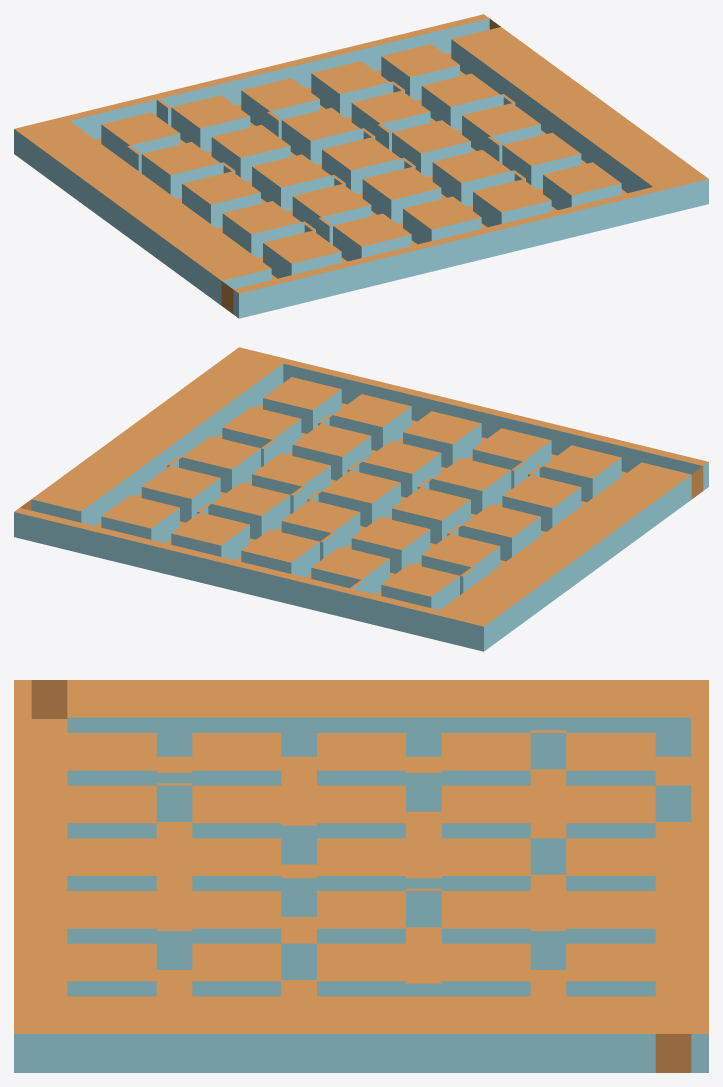
Rendered from mazev8.dae.
The picture shows the model from 3 angles, top to bottom: view 1: azimuth 30°, elevation 25°; view 2: azimuth 150°, elevation 25°; view 3: azimuth 270°, elevation 25°; orthographic projection. The views are drawn at different scales.
Parts seen in each view (by area): view 1: 平面; view 2: 平面; view 3: 平面.
Part boxes in pixels (bbox=[...]): 平面: bbox=[14, 14, 708, 318]; 平面: bbox=[14, 347, 708, 651]; 平面: bbox=[14, 680, 708, 1072].
Bounding box in the file's own units: 29.38 × 24.38 × 1.5.
